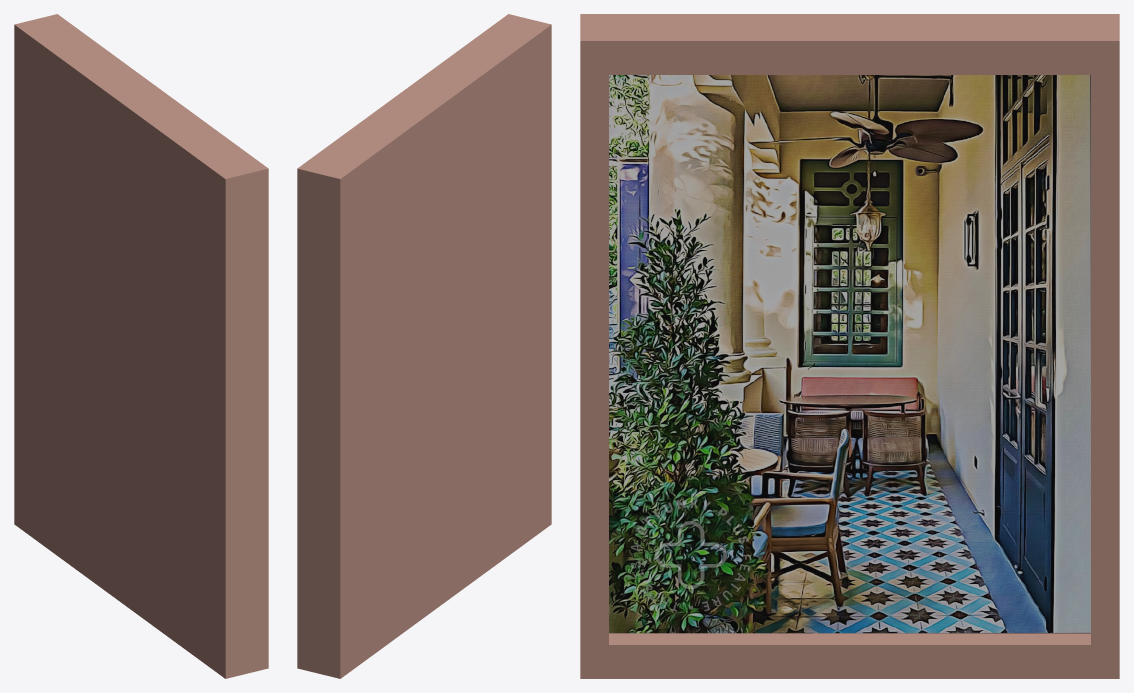
Rendered from kiss.glb.
3 renders of one model, left to right at view 1: azimuth 30°, elevation 25°; view 2: azimuth 150°, elevation 25°; view 3: azimuth 270°, elevation 25°, orthographic. The views are drawn at different scales.
Parts seen in each view (by area): view 1: Cube; view 2: Cube; view 3: Cube.001, Cube.
Boxes of the visible parts, x1,y1,x2,y2 form: Cube: [14, 14, 268, 678]; Cube: [297, 14, 551, 678]; Cube.001: [609, 75, 1090, 633]; Cube: [580, 14, 1119, 678].
Bounding box in the file's own units: 1.02 × 11.29 × 8.65.
2 materials, 1 textured.
